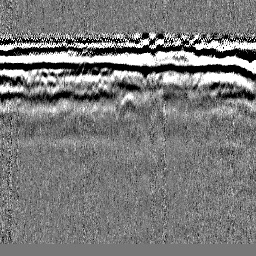cavity: (115, 91, 140, 122)
